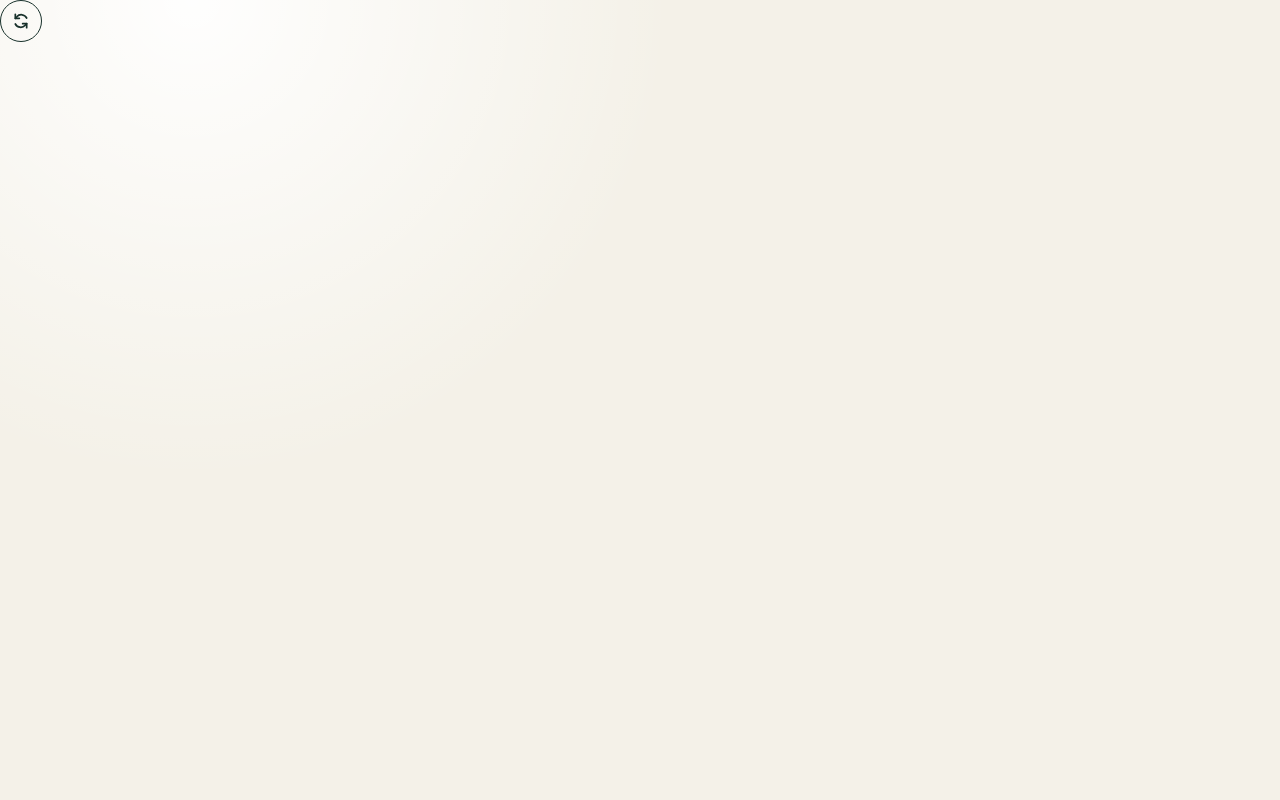
Test: SyncPanel: entry and local validation › does not submit with empty email
Later steps or results of the test are not shown.
Click the button named "登录与数据同步" at (21, 21), box [0,0,42,42]
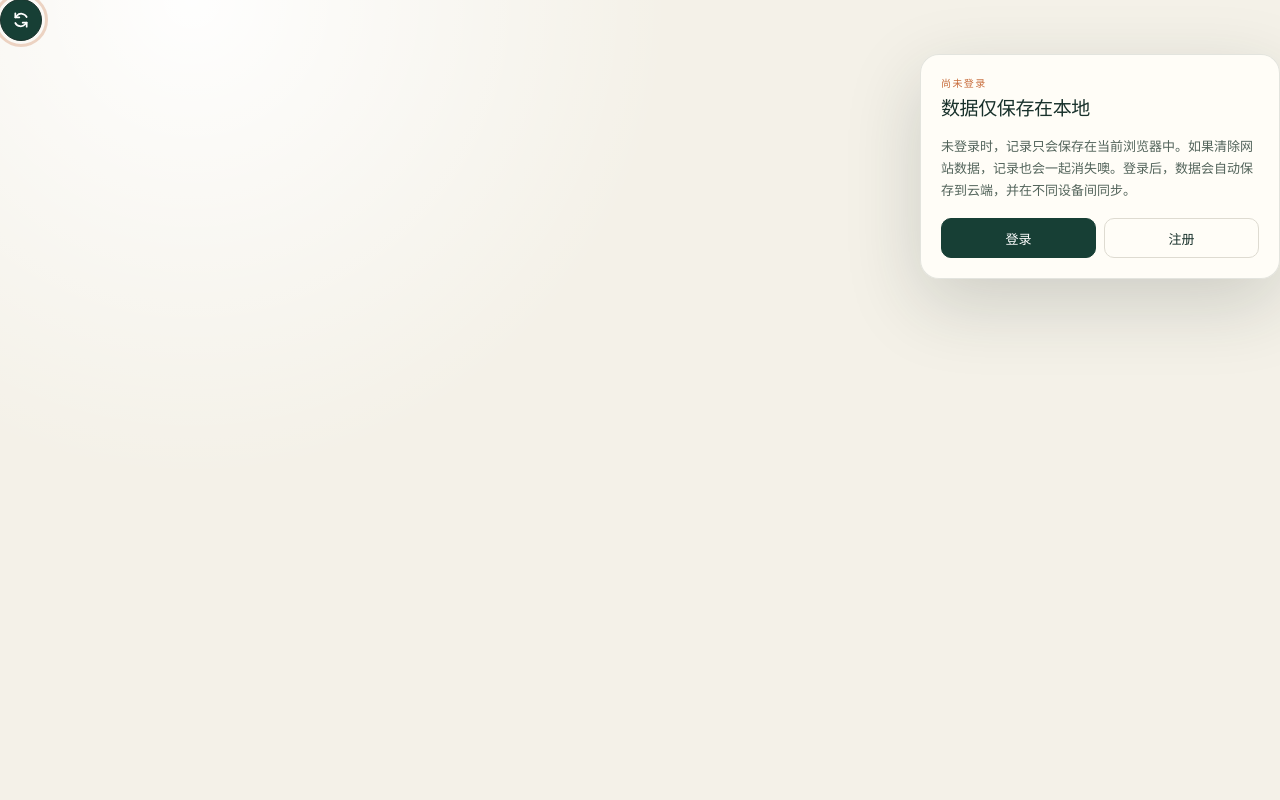
Result: the button "注册" is shown
Click the button "注册" at (1182, 238), box [1104,218,1259,258]
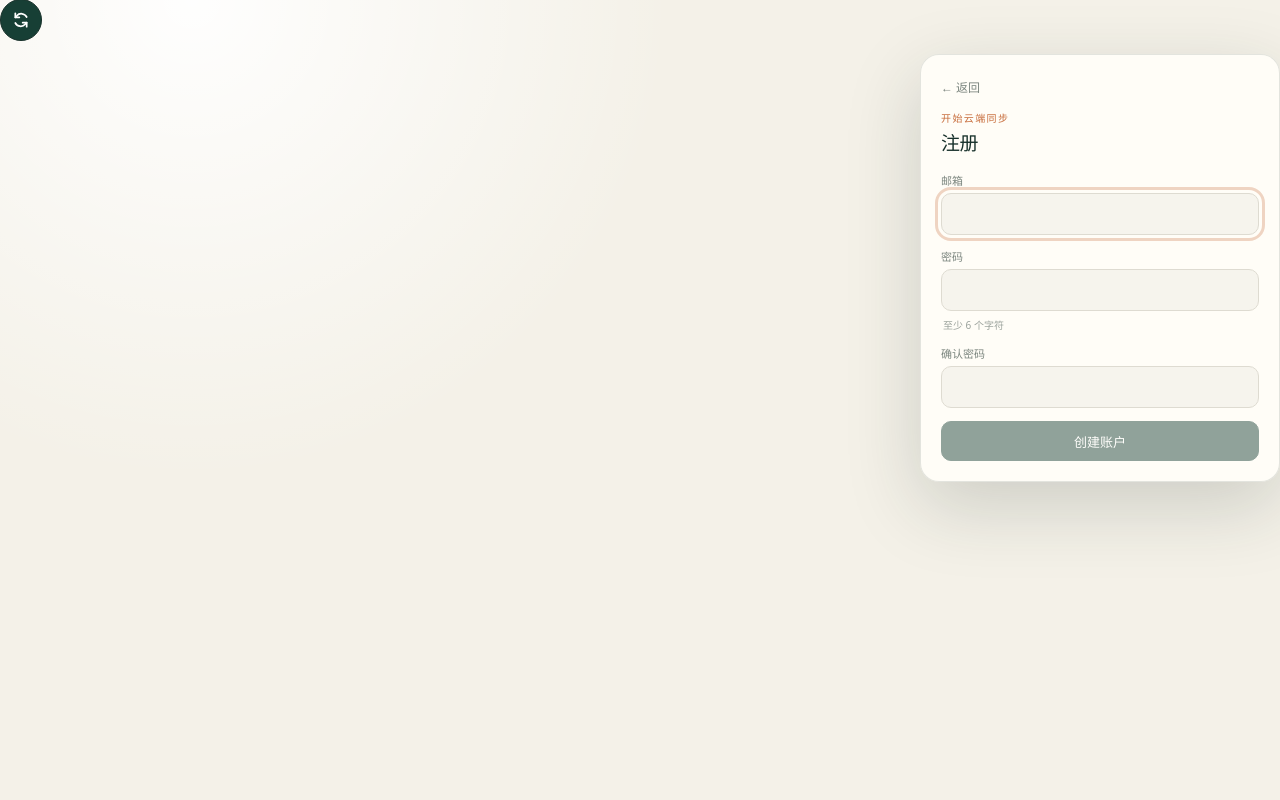
Type "password123" into the password field labelled "密码" at (1100, 290), box [941,269,1259,311]
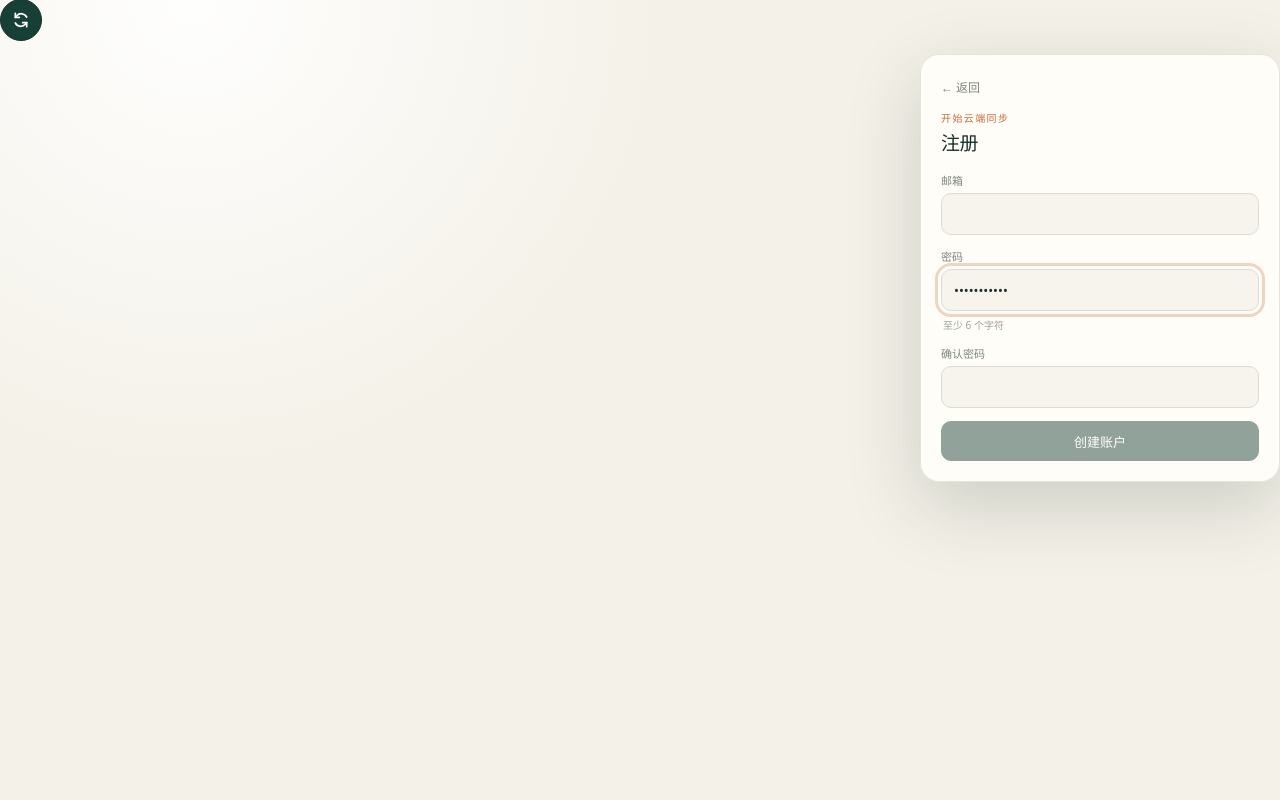
Type "password123" into the password field labelled "确认密码" at (1100, 387), box [941,366,1259,408]
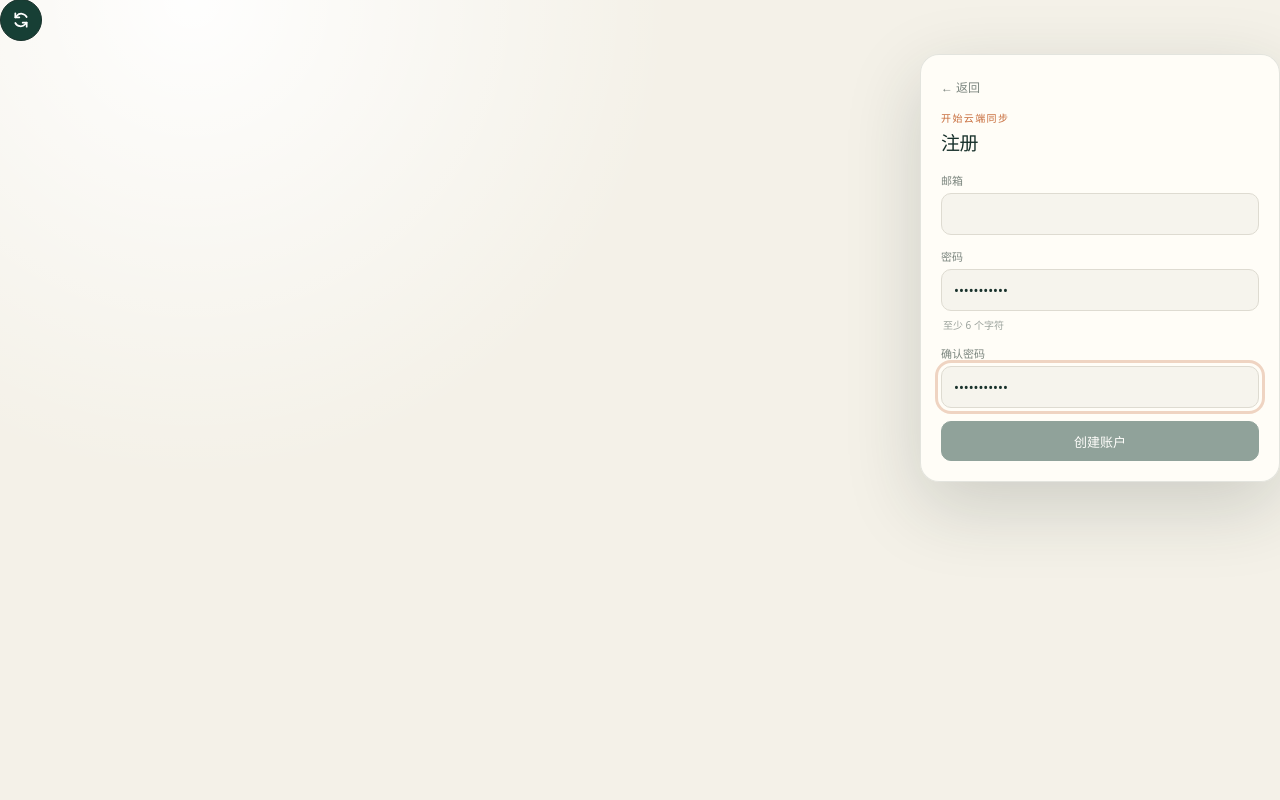
Result: the button "创建账户" is disabled at [941,421,1259,461]
